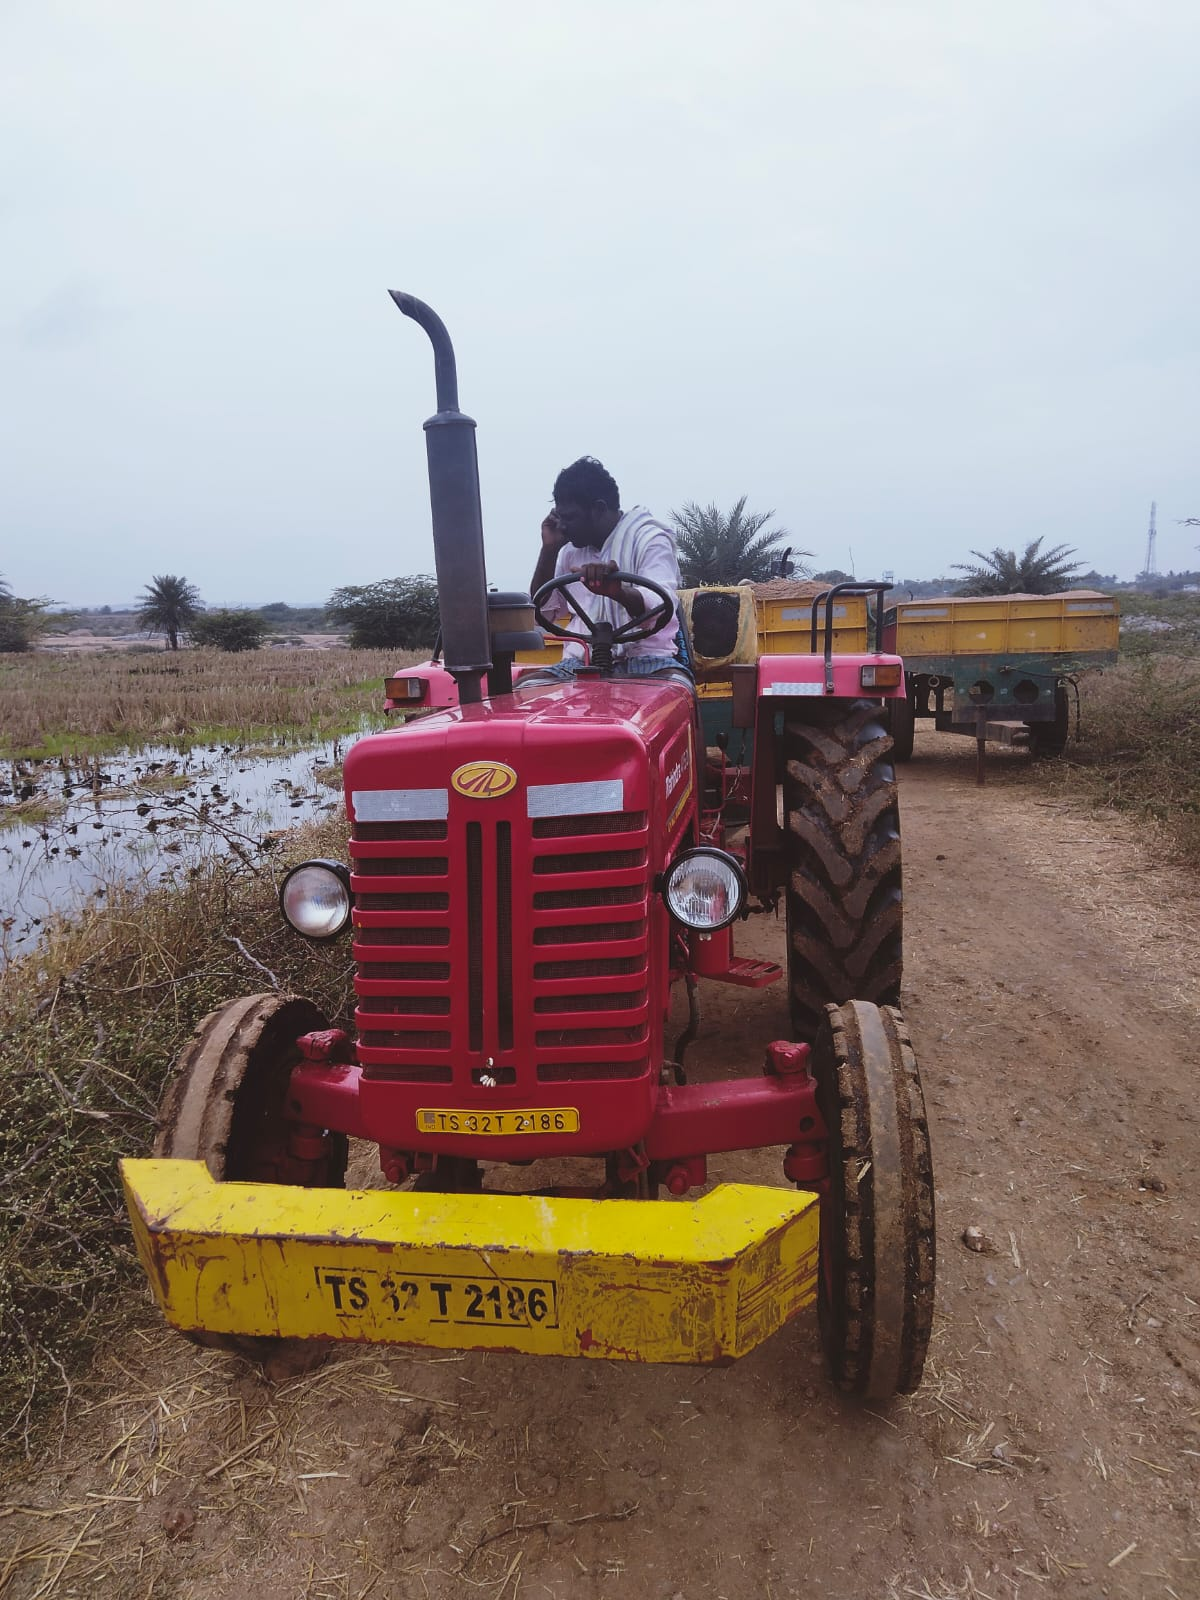license_plate: (298, 1246, 588, 1363)
